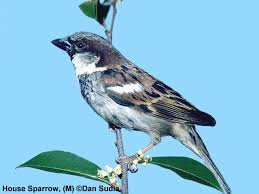hsparrow: (48, 30, 239, 194)
